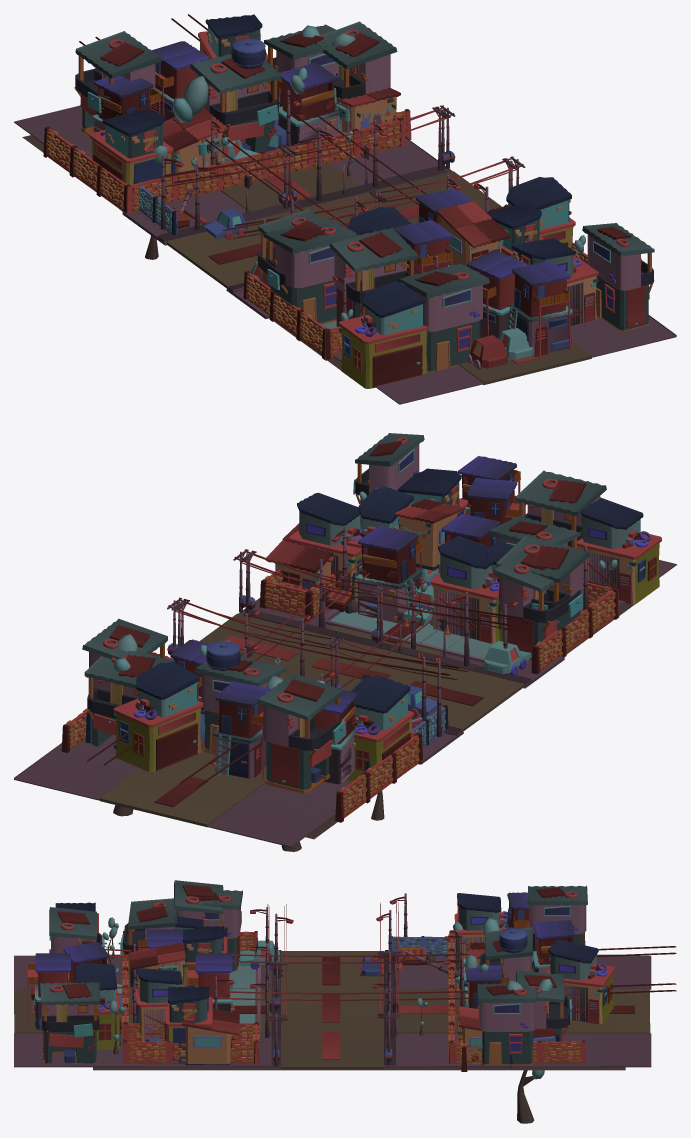
The model's file is Cenario.fbx.
3 views of the same model, one above another, from view 1: azimuth 30°, elevation 25°; view 2: azimuth 150°, elevation 25°; view 3: azimuth 270°, elevation 25° (orthographic). The views are drawn at different scales.
Parts seen in each view (by area): view 1: props, Casa_053, Rua_Reta2, Casa_055, Casa_058, Casa_054, Casa_060, Calcada7, Casa_056, Rua_Reta3, Casa_064, Casa_057 (+27 smaller); view 2: props, Rua_Reta2 (×2), Rua_Reta3, Casa_053, Calcada7, Casa_063, Calcada6, Casa_064, Casa_055, Casa_058, chao, Quadra1 (+22 smaller); view 3: props, Rua_Reta2 (×2), chao, Calcada6, Rua_Reta3, Casa_058, Casa_060, Calcada9, Calcada7, Casa_064, Casa_056, Casa_055 (+21 smaller).
Boxes of the visible parts, x1=… form: props: x1=74, y1=14, x2=571, y2=326; Casa_053: x1=339, y1=281, x2=428, y2=388; Rua_Reta2: x1=166, y1=173, x2=494, y2=288; Casa_055: x1=398, y1=263, x2=489, y2=372; Casa_058: x1=582, y1=223, x2=654, y2=331; Casa_054: x1=507, y1=260, x2=572, y2=360; Casa_060: x1=315, y1=21, x2=397, y2=103; Calcada7: x1=14, y1=105, x2=249, y2=232; Casa_056: x1=511, y1=238, x2=598, y2=326; Rua_Reta3: x1=220, y1=163, x2=362, y2=217; Casa_064: x1=506, y1=177, x2=575, y2=248; Casa_057: x1=467, y1=250, x2=526, y2=338; props: x1=84, y1=486, x2=590, y2=793; Rua_Reta2 (×2): x1=199, y1=613, x2=524, y2=731; Rua_Reta3: x1=99, y1=748, x2=266, y2=827; Casa_053: x1=577, y1=497, x2=661, y2=604; Calcada7: x1=206, y1=733, x2=445, y2=847; Casa_063: x1=492, y1=550, x2=583, y2=661; Calcada6: x1=14, y1=734, x2=139, y2=800; Casa_064: x1=289, y1=492, x2=362, y2=599; Casa_055: x1=515, y1=470, x2=606, y2=546; Casa_058: x1=353, y1=433, x2=424, y2=525; chao: x1=232, y1=609, x2=560, y2=766; Quadra1: x1=318, y1=568, x2=530, y2=669; props: x1=118, y1=880, x2=615, y2=1067; Rua_Reta2 (×2): x1=280, y1=951, x2=383, y2=1069; chao: x1=148, y1=951, x2=575, y2=1067; Calcada6: x1=384, y1=1033, x2=651, y2=1067; Rua_Reta3: x1=383, y1=989, x2=650, y2=1033; Casa_058: x1=39, y1=982, x2=100, y2=1064; Casa_060: x1=477, y1=983, x2=537, y2=1068; Calcada9: x1=14, y1=1033, x2=280, y2=1067; Calcada7: x1=396, y1=955, x2=651, y2=989; Casa_064: x1=164, y1=986, x2=212, y2=1063; Casa_056: x1=75, y1=962, x2=120, y2=1050; Casa_055: x1=49, y1=907, x2=106, y2=953.
Bounding box in the file's own units: 2606 × 1595 × 6067.
